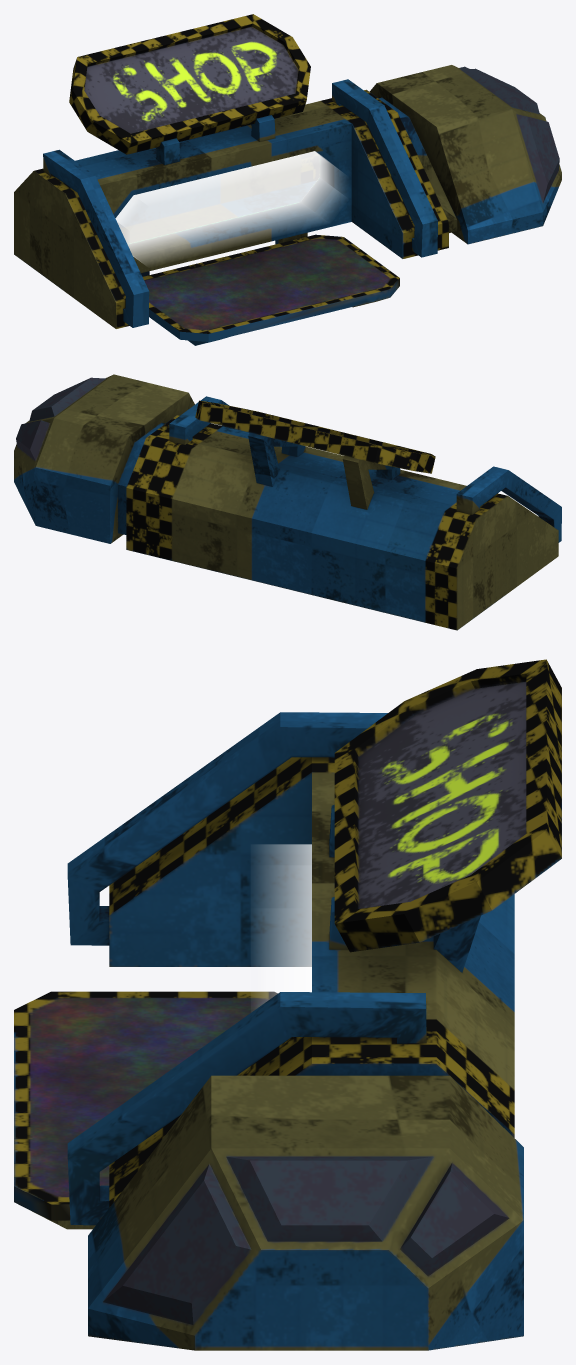
The model's file is Shop.glb.
3 renders of one model, top to bottom at view 1: azimuth 30°, elevation 25°; view 2: azimuth 150°, elevation 25°; view 3: azimuth 270°, elevation 25°, orthographic. The views are drawn at different scales.
Parts seen in each view (by area): view 1: Shop; view 2: Shop; view 3: Shop.
Boxes of the visible parts, <box> form: Shop: <box>14,14,561,345</box>; Shop: <box>14,374,561,630</box>; Shop: <box>14,659,561,1350</box>.
Size of the model in its own units: 29.26 by 11.95 by 14.97.
2 materials, 2 textured.
